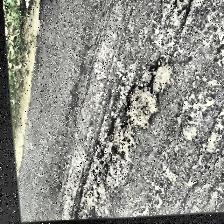pothole: (120, 62, 174, 130), (93, 120, 129, 178)
